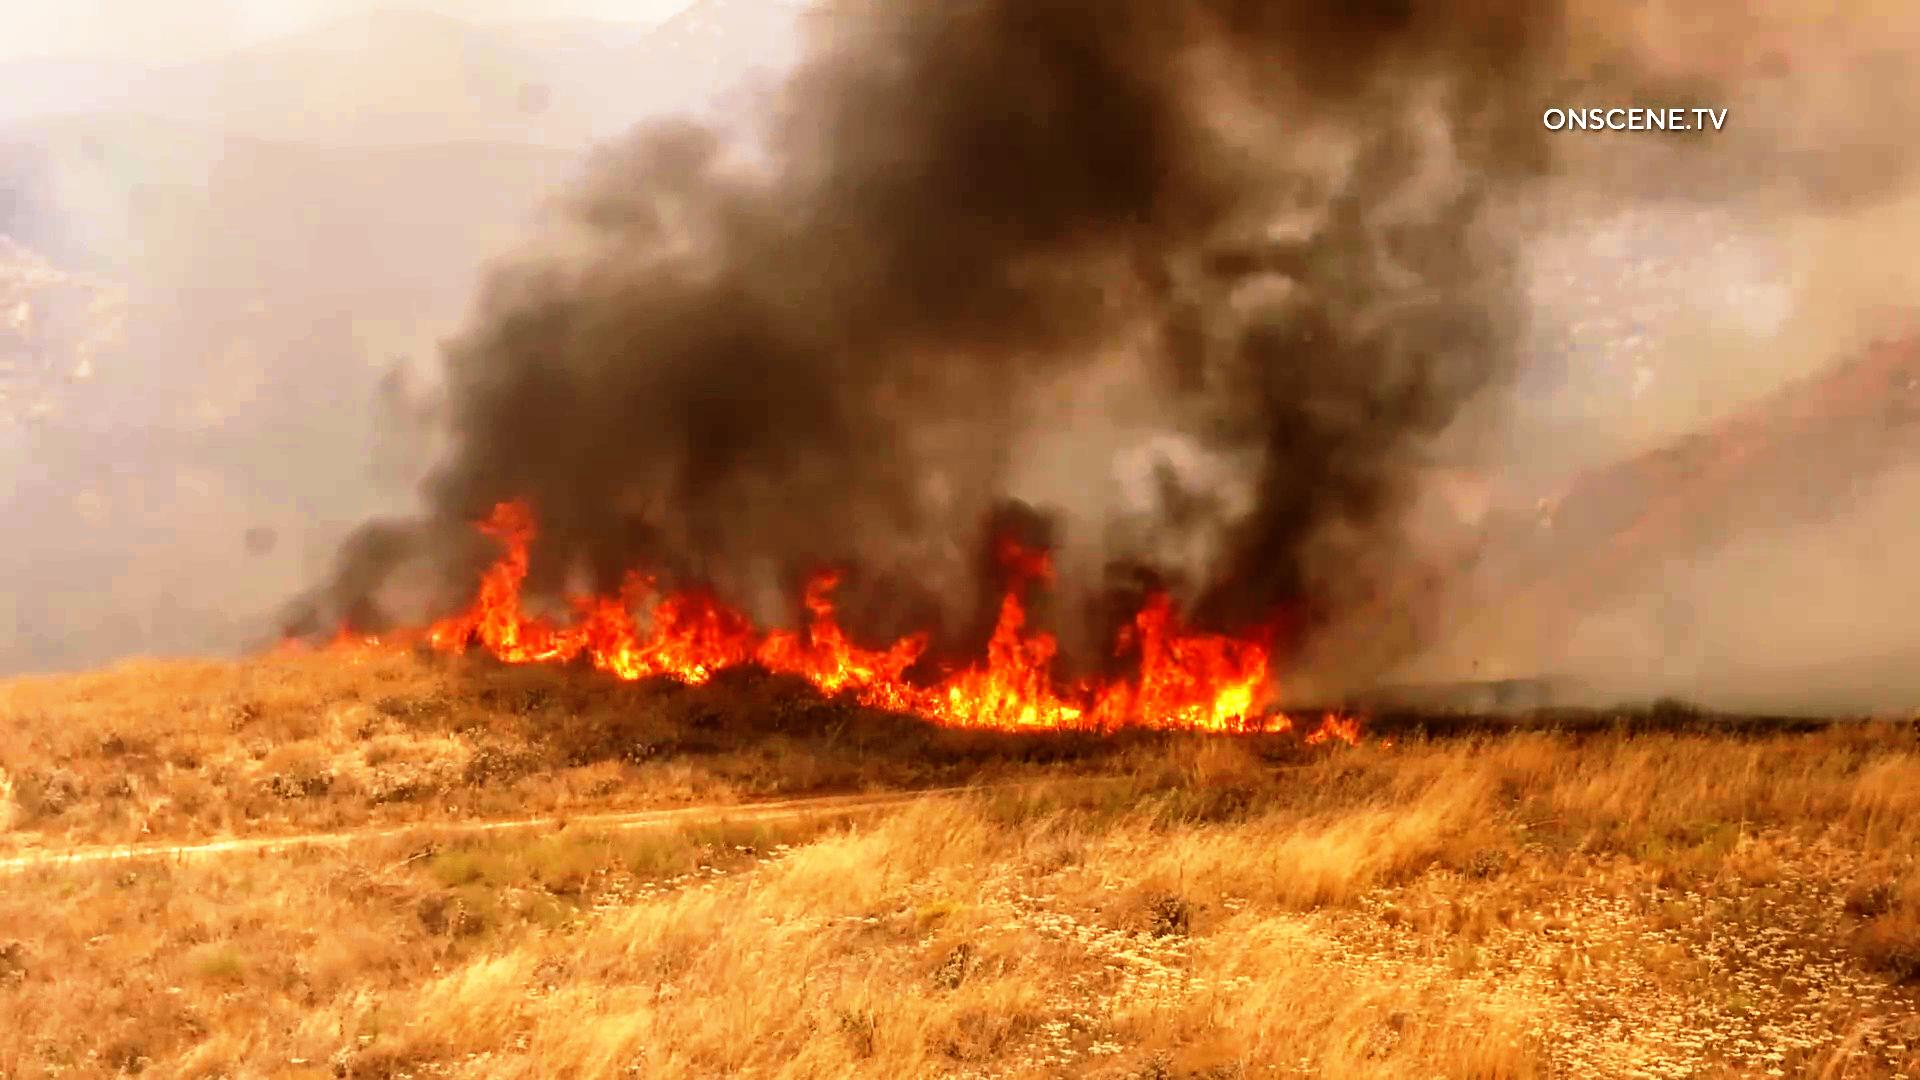fire: (795, 605, 1164, 761), (488, 539, 725, 673), (1149, 632, 1386, 749)
